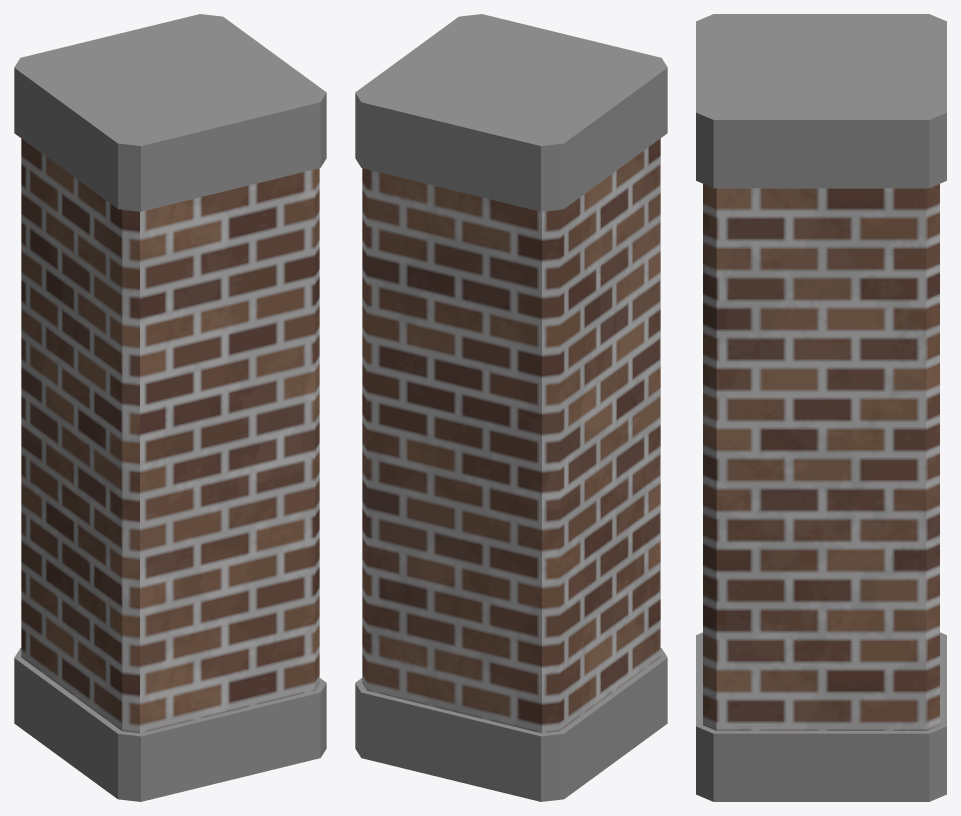
Rendered from Normal_Pillar_001.FBX.
The picture shows the model from 3 angles, left to right: view 1: azimuth 30°, elevation 25°; view 2: azimuth 150°, elevation 25°; view 3: azimuth 270°, elevation 25°; orthographic projection. The views are drawn at different scales.
Visible parts, largest first — view 1: Normal_Pillar_001; view 2: Normal_Pillar_001; view 3: Normal_Pillar_001.
Boxes of the visible parts, left/top/right/bottom form: Normal_Pillar_001: left=14, top=14, right=326, bottom=801; Normal_Pillar_001: left=355, top=14, right=667, bottom=801; Normal_Pillar_001: left=696, top=14, right=946, bottom=801.
Bounding box in the file's own units: 100 × 100 × 300.
